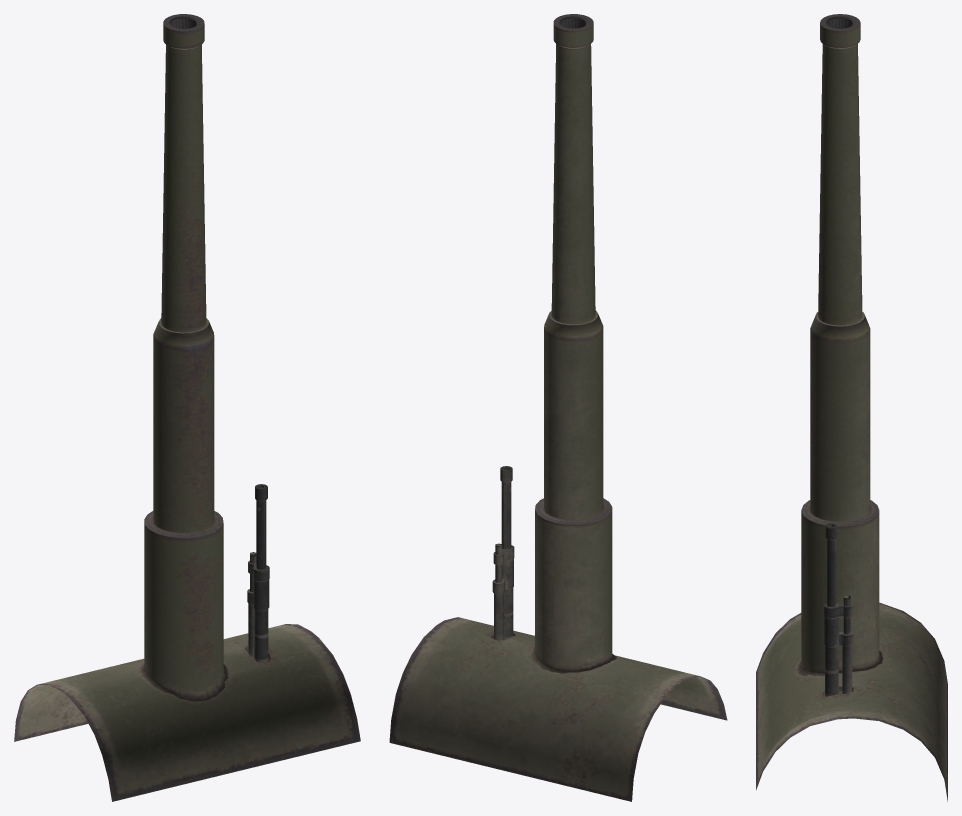
The model's file is Gun_01.glb.
3 renders of one model, left to right at view 1: azimuth 30°, elevation 25°; view 2: azimuth 150°, elevation 25°; view 3: azimuth 270°, elevation 25°, orthographic. The views are drawn at different scales.
Parts seen in each view (by area): view 1: set_0_group_0; view 2: set_0_group_0; view 3: set_0_group_0.
Part boxes in pixels (x1=…): set_0_group_0: x1=14, y1=14, x2=360, y2=801; set_0_group_0: x1=389, y1=14, x2=727, y2=801; set_0_group_0: x1=756, y1=14, x2=947, y2=801.
Bounding box in the file's own units: 0.4901 × 1.38 × 0.3342.
1 material, 1 textured.
